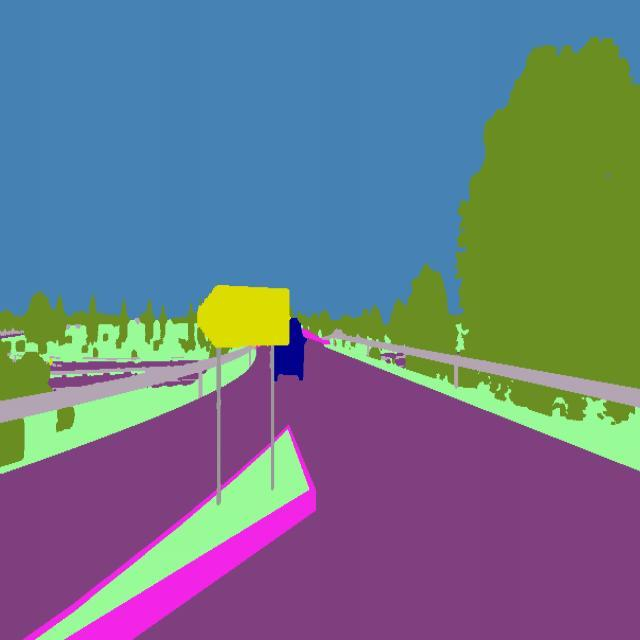safe: (268, 314, 308, 384)
